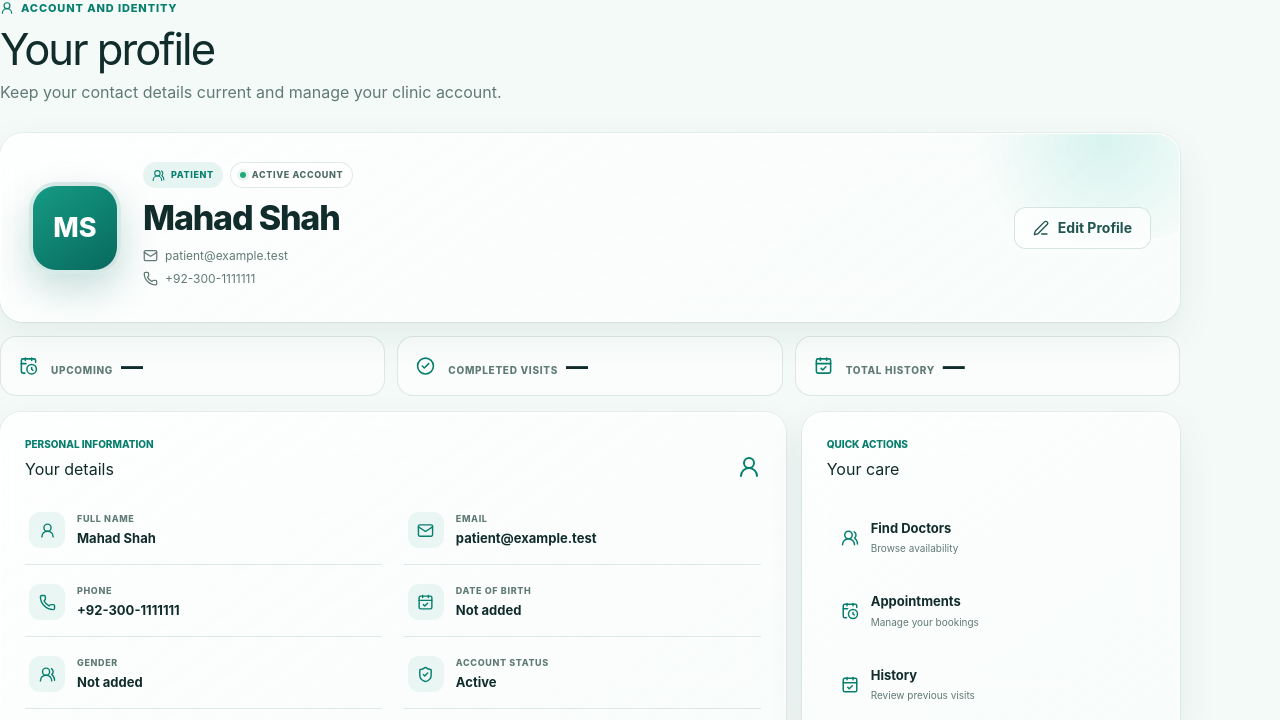
it: PatientProfilePage › renders authenticated profile data, real appointment totals, and working actions
Expected: the heading "Your profile" is shown, [0,22,214,74]
Expected: the heading "Mahad Shah" is shown, [143,197,340,238]
Click the button "Edit Profile".
click(1082, 228)  # box [1014,206,1151,248]
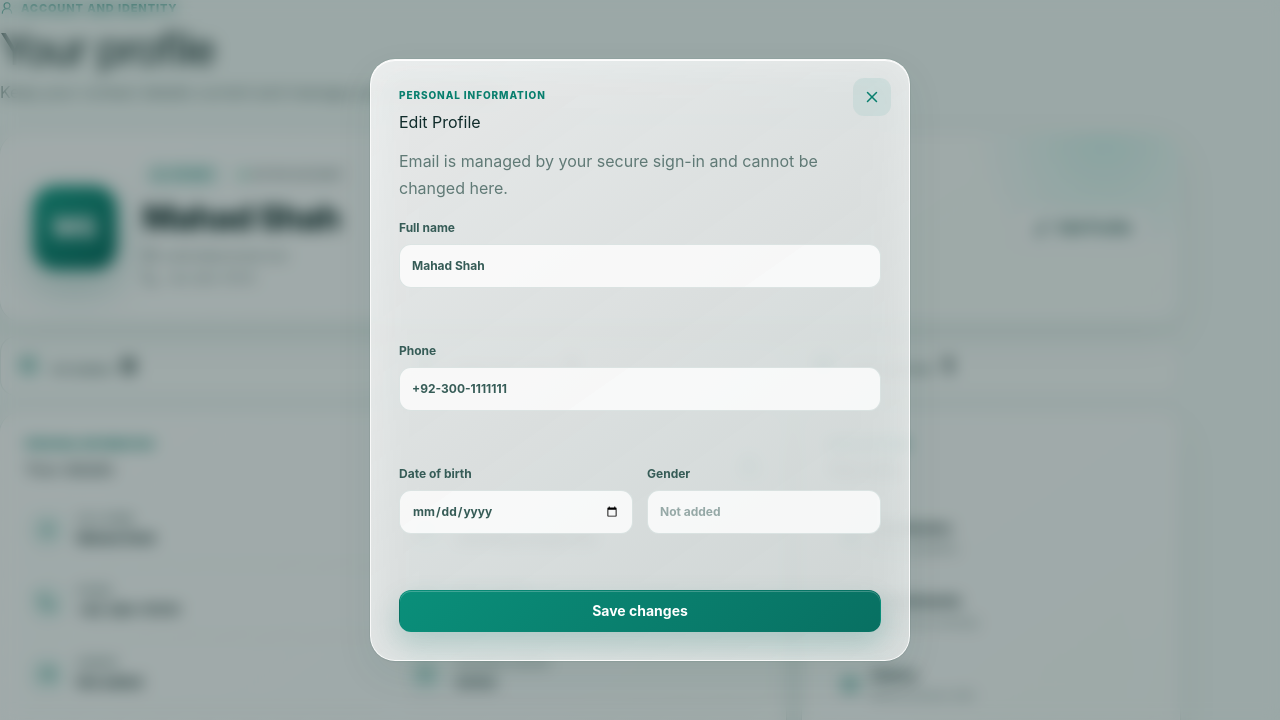
Result: the dialog is shown
Result: the field labelled "Full name" holds "Mahad Shah" at [399,244,881,288]
Result: the text "Email is managed by your secure sign-in" is shown at [399,151,818,198]
